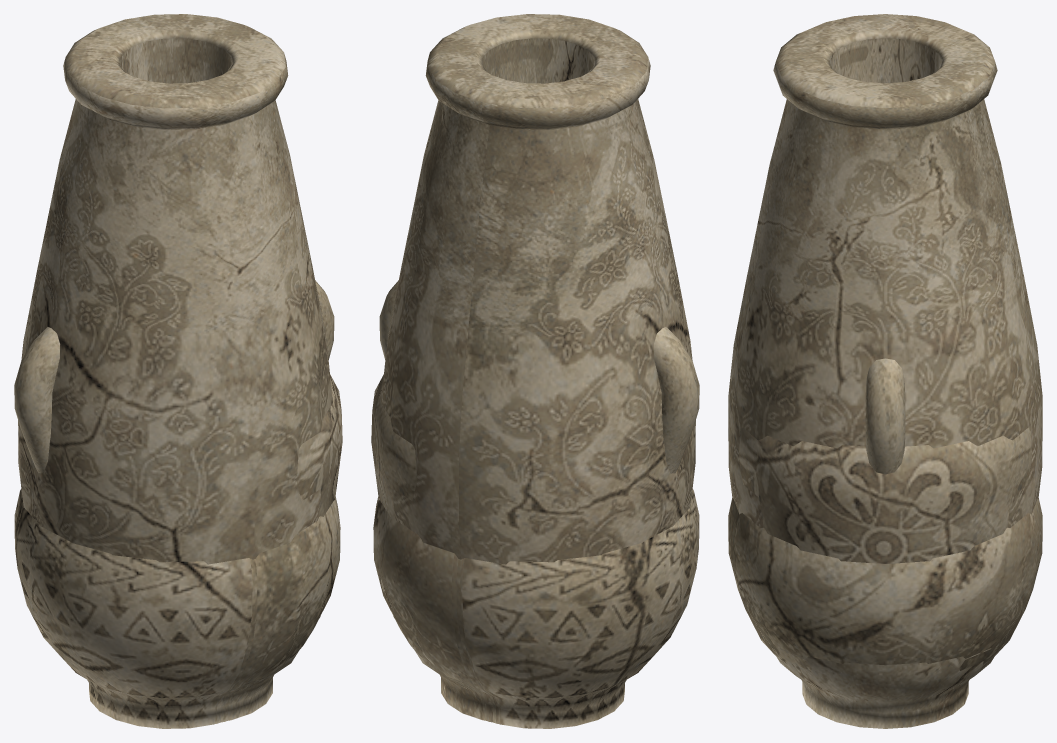
The model's file is Pots.fbx.
3 views of the same model, side by side, from view 1: azimuth 30°, elevation 25°; view 2: azimuth 150°, elevation 25°; view 3: azimuth 270°, elevation 25° (orthographic).
Parts seen in each view (by area): view 1: polySurface7, polySurface5, polySurface1, polySurface9, polySurface6; view 2: polySurface7, polySurface5, polySurface1, polySurface9, polySurface6; view 3: polySurface7, polySurface6, polySurface1, polySurface9.
Boxes of the visible parts, left/top/right/bottom form: polySurface7: left=18, top=14, right=332, bottom=723; polySurface5: left=14, top=489, right=252, bottom=728; polySurface1: left=221, top=497, right=340, bottom=722; polySurface9: left=14, top=280, right=334, bottom=723; polySurface6: left=227, top=374, right=342, bottom=720; polySurface7: left=381, top=14, right=695, bottom=723; polySurface5: left=461, top=489, right=699, bottom=728; polySurface1: left=373, top=497, right=492, bottom=722; polySurface9: left=379, top=280, right=699, bottom=723; polySurface6: left=371, top=374, right=486, bottom=720; polySurface7: left=728, top=14, right=1042, bottom=527; polySurface6: left=738, top=427, right=1032, bottom=728; polySurface1: left=728, top=498, right=1042, bottom=670; polySurface9: left=728, top=358, right=1042, bottom=519.
Bounding box in the file's own units: 4.33 × 8.36 × 3.78.
Materials: 1 (1 with a texture image).
